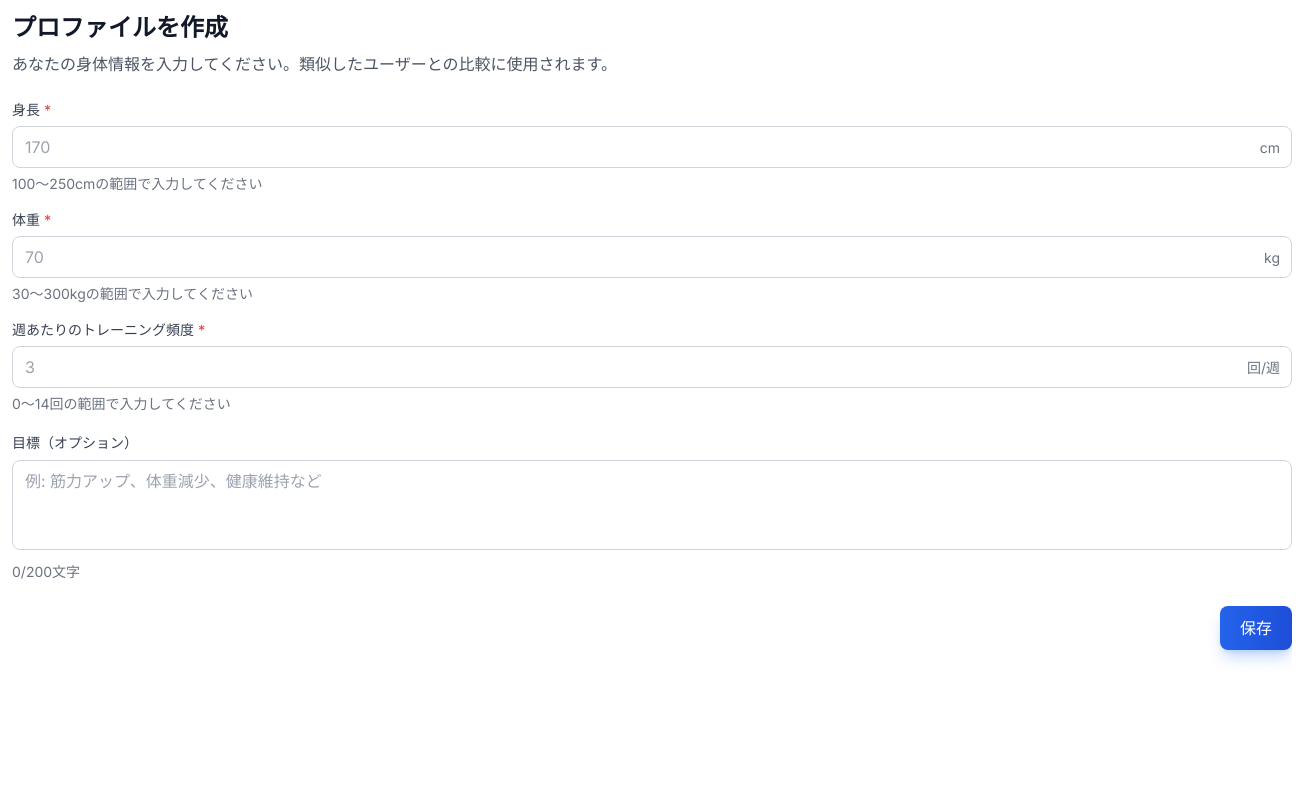
Test: ProfileForm › バリデーション - 要件5.3 › 必須フィールドが空の場合、送信時にエラーを表示する
Click the button "保存": [1256, 628] box [1220, 606, 1292, 650]
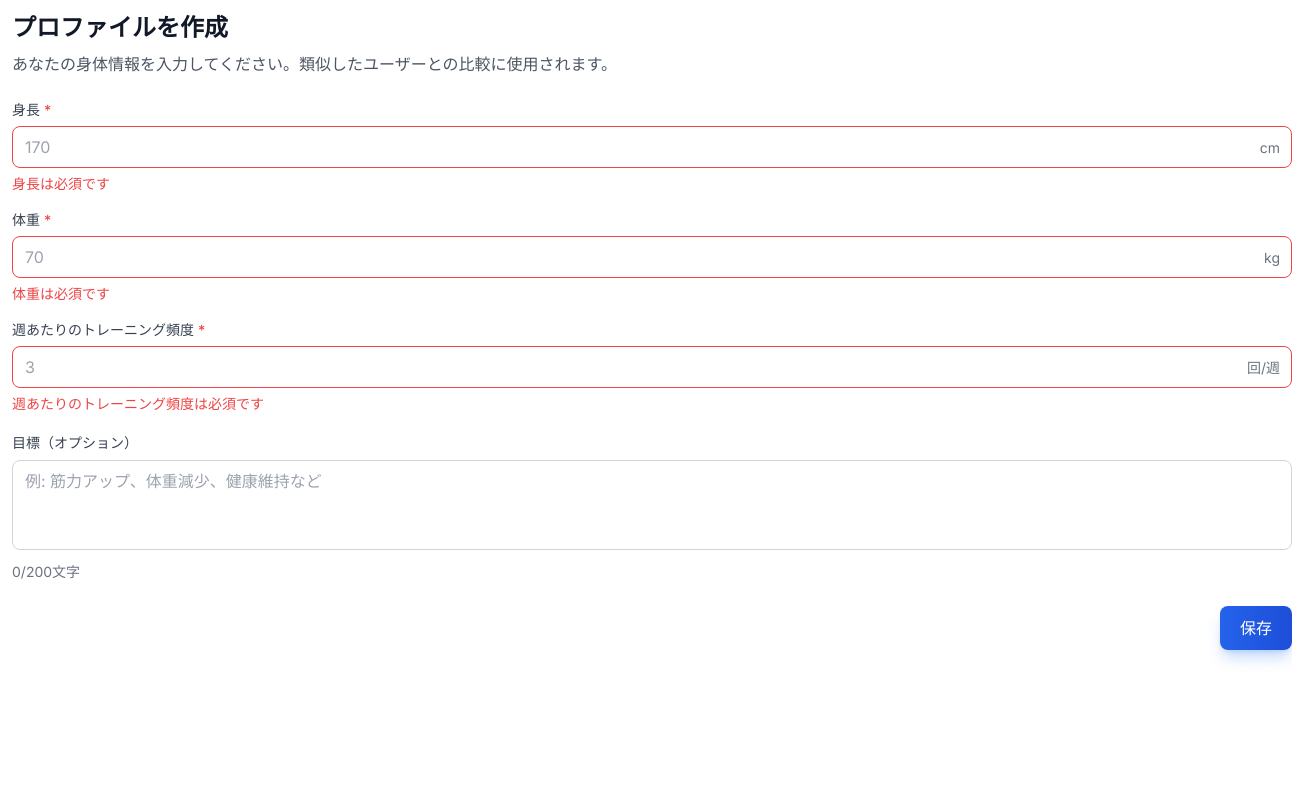
Check: the text "身長は必須です" is shown, box [12, 175, 110, 192]
Check: the text "体重は必須です" is shown, box [12, 285, 110, 302]
Check: the text "週あたりのトレーニング頻度は必須です" is shown, box [12, 395, 264, 412]
